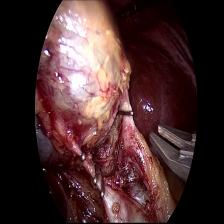Clipper: (146, 114, 196, 182)
